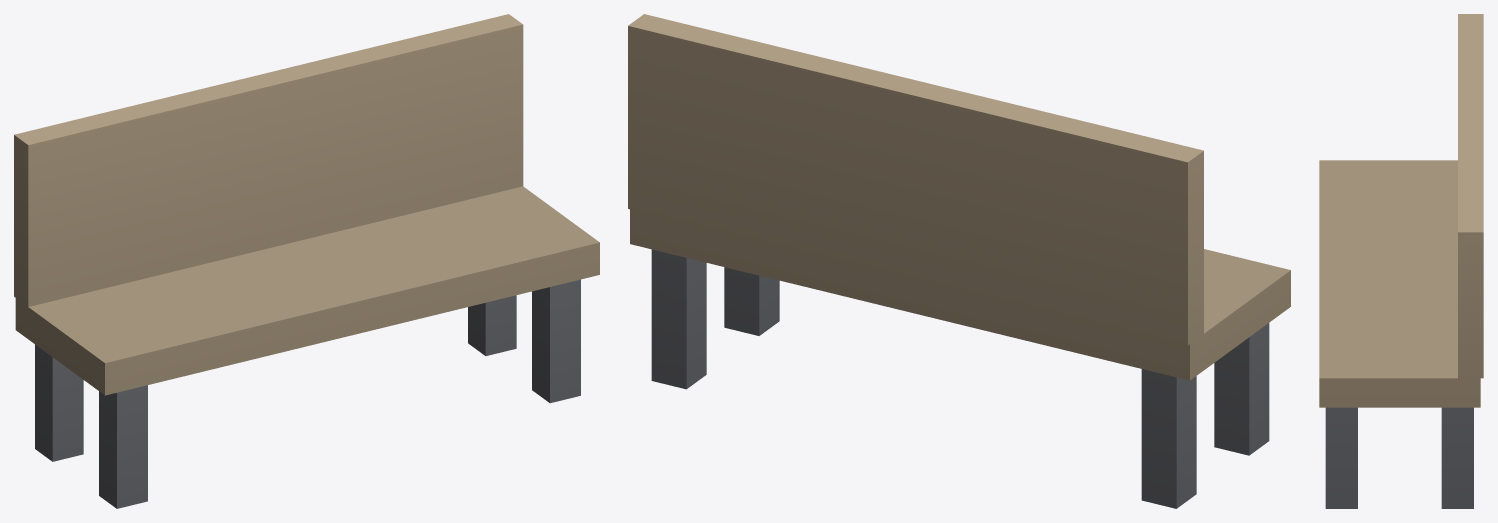
Rendered from bench.glb.
3 views of the same model, side by side, from view 1: azimuth 30°, elevation 25°; view 2: azimuth 150°, elevation 25°; view 3: azimuth 270°, elevation 25° (orthographic). The views are drawn at different scales.
Parts seen in each view (by area): view 1: root; view 2: root; view 3: root.
Boxes of the visible parts, x1,y1,x2,y2 form: root: (14,14,599,508); root: (628,14,1290,508); root: (1319,14,1483,508).
Size of the model in its own units: 1.6 by 0.97 by 0.51.
